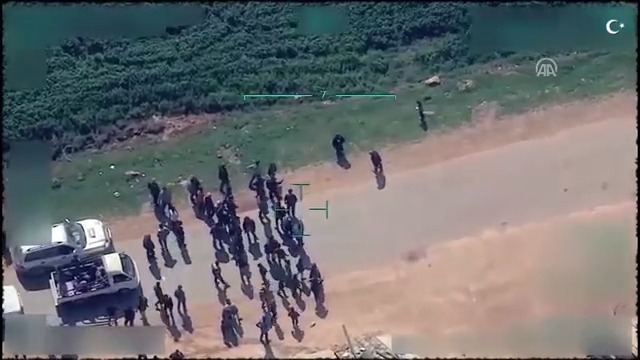arac: (8, 210, 116, 278), (46, 247, 139, 308)
insan: (331, 131, 354, 175), (210, 257, 231, 290), (414, 97, 432, 134), (241, 211, 259, 246), (174, 282, 191, 316), (215, 162, 235, 190), (253, 315, 272, 344), (367, 146, 385, 176), (285, 185, 300, 218), (254, 260, 271, 284), (143, 234, 157, 263), (120, 305, 137, 328), (287, 305, 302, 331)
